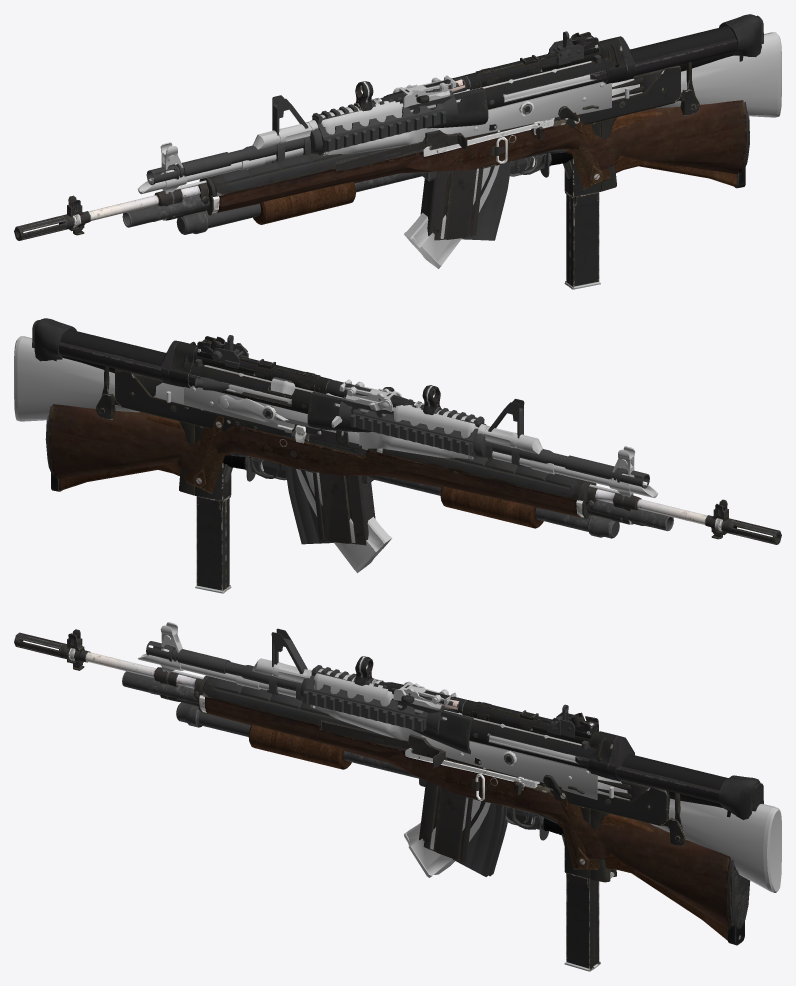
File: arsenal.glb
3 views of the same model, one above another, from view 1: azimuth 30°, elevation 25°; view 2: azimuth 150°, elevation 25°; view 3: azimuth 330°, elevation 25° (orthographic).
Parts seen in each view (by area): view 1: Gun_M110_Mesh, Gun_M249_Mesh, Gun_MP5_Mesh, Gun_M4A1_Mesh, Gun_MP7_Mesh, Gun_M1014_Mesh, Gun_M9A1_Mesh, Gun_Knife_Mesh; view 2: Gun_M110_Mesh, Gun_M249_Mesh, Gun_MP5_Mesh, Gun_M4A1_Mesh, Gun_MP7_Mesh, Gun_M1014_Mesh, Gun_M9A1_Mesh, Gun_Knife_Mesh; view 3: Gun_M110_Mesh, Gun_M249_Mesh, Gun_MP5_Mesh, Gun_M4A1_Mesh, Gun_MP7_Mesh, Gun_M1014_Mesh, Gun_M9A1_Mesh, Gun_Knife_Mesh.
Boxes of the visible parts, x1,y1,x2,y2 form: Gun_M110_Mesh: (14, 100, 749, 240); Gun_M249_Mesh: (137, 32, 781, 268); Gun_MP5_Mesh: (353, 14, 763, 197); Gun_M4A1_Mesh: (146, 26, 743, 240); Gun_MP7_Mesh: (503, 62, 699, 289); Gun_M1014_Mesh: (122, 111, 745, 234); Gun_M9A1_Mesh: (563, 105, 610, 189); Gun_Knife_Mesh: (510, 152, 572, 177); Gun_M110_Mesh: (45, 404, 781, 545); Gun_M249_Mesh: (14, 336, 658, 572); Gun_MP5_Mesh: (32, 318, 441, 501); Gun_M4A1_Mesh: (53, 329, 649, 544); Gun_MP7_Mesh: (96, 366, 289, 593); Gun_M1014_Mesh: (51, 415, 673, 538); Gun_M9A1_Mesh: (184, 416, 232, 493); Gun_Knife_Mesh: (223, 455, 286, 481); Gun_M110_Mesh: (14, 629, 750, 929); Gun_M249_Mesh: (138, 622, 781, 892); Gun_MP5_Mesh: (353, 656, 763, 828); Gun_M4A1_Mesh: (146, 628, 730, 876); Gun_MP7_Mesh: (489, 769, 685, 971); Gun_M1014_Mesh: (122, 671, 744, 945); Gun_M9A1_Mesh: (559, 785, 612, 870); Gun_Knife_Mesh: (507, 807, 563, 840).
Size of the model in its own units: 1.31 by 0.4282 by 0.1031.
Materials: 10 (8 with a texture image).
